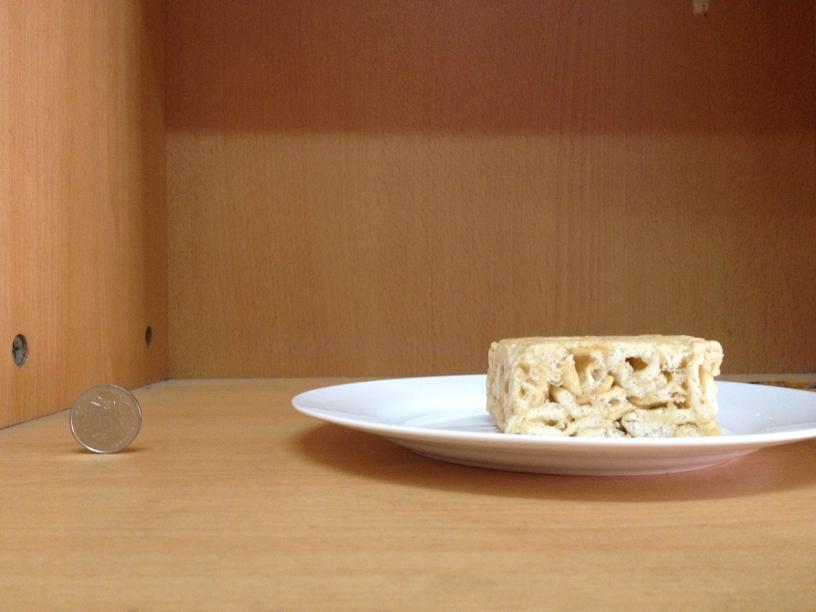coin: (58, 381, 142, 454)
sachima: (487, 322, 729, 440)
